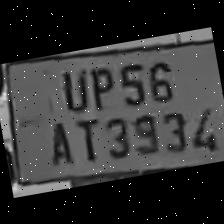3: (96, 110, 132, 162), (154, 103, 190, 155)
4: (183, 100, 219, 155)
5: (111, 55, 149, 108)
6: (140, 55, 178, 104)
9: (125, 107, 161, 157)
A: (37, 115, 75, 167)
P: (81, 59, 117, 111)
T: (68, 112, 104, 164)
U: (53, 64, 92, 113)
